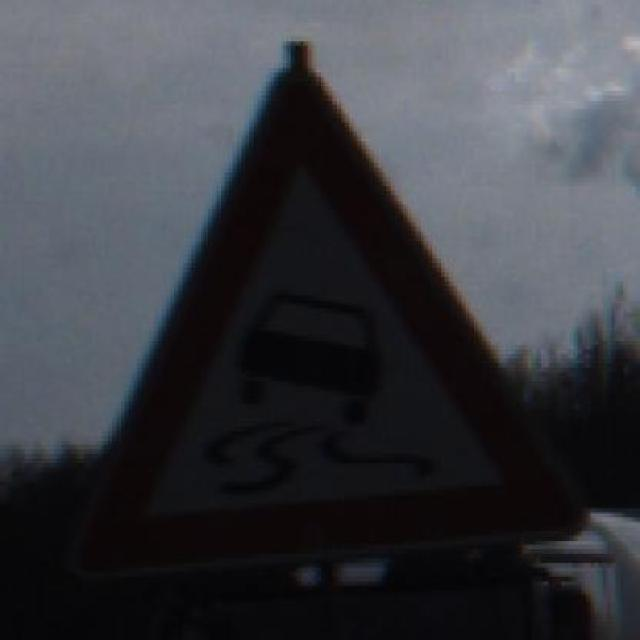Slippery Road Ahead: (58, 31, 594, 567)
